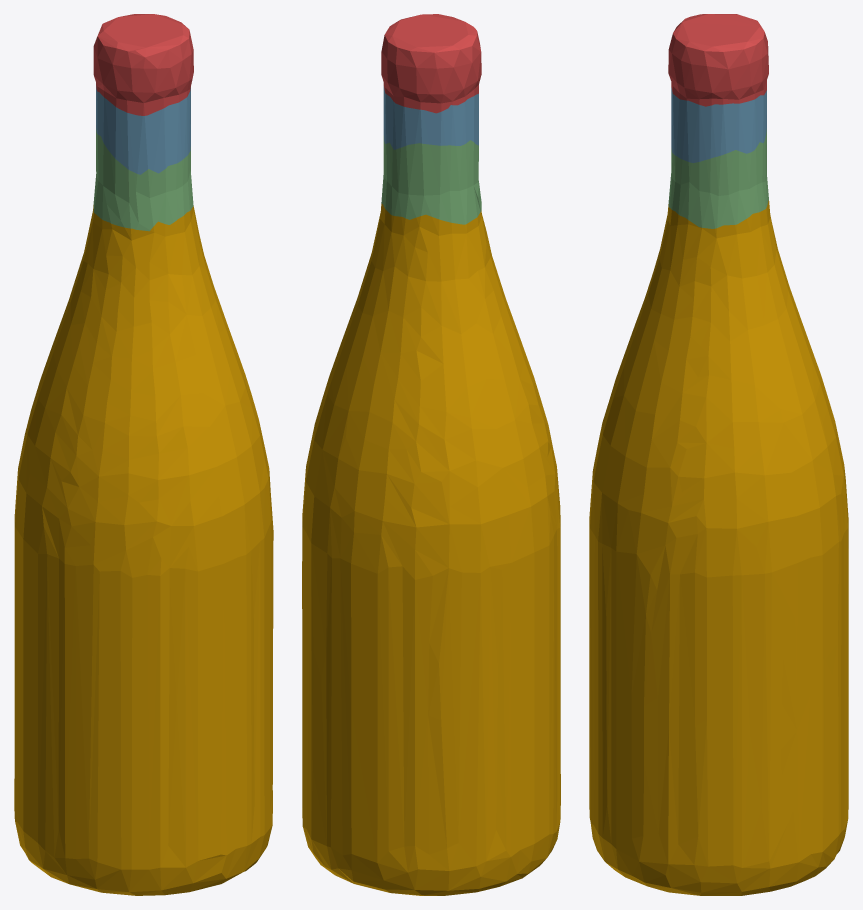
Rendered from fractured_13_4pcs.glb.
3 renders of one model, left to right at view 1: azimuth 30°, elevation 25°; view 2: azimuth 150°, elevation 25°; view 3: azimuth 270°, elevation 25°, orthographic.
Visible parts, largest first — view 1: piece_0.obj, piece_1.obj, piece_3.obj, piece_2.obj; view 2: piece_0.obj, piece_1.obj, piece_3.obj, piece_2.obj; view 3: piece_0.obj, piece_1.obj, piece_3.obj, piece_2.obj.
Boxes of the visible parts, bbox=[...] form: piece_0.obj: bbox=[14, 205, 273, 895]; piece_1.obj: bbox=[93, 14, 193, 115]; piece_3.obj: bbox=[93, 129, 193, 231]; piece_2.obj: bbox=[96, 86, 190, 174]; piece_0.obj: bbox=[302, 204, 560, 895]; piece_1.obj: bbox=[381, 14, 481, 113]; piece_3.obj: bbox=[381, 136, 481, 224]; piece_2.obj: bbox=[383, 86, 478, 149]; piece_0.obj: bbox=[589, 200, 848, 895]; piece_1.obj: bbox=[668, 14, 768, 106]; piece_3.obj: bbox=[668, 129, 768, 228]; piece_2.obj: bbox=[671, 88, 766, 162].
Bounding box in the file's own units: 0.2867 × 1 × 0.2866.
